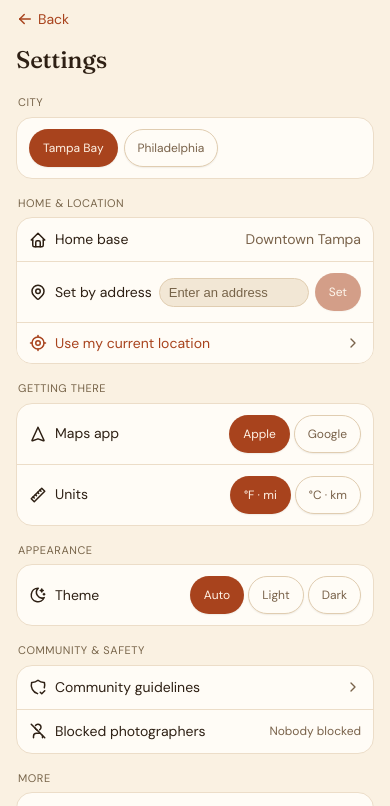
Scenario: Settings — set home by typing an address › geocodes a typed address and updates the home base
The width and height of the screenshot is (390, 806).
Type "1234 Channelside Dr, Tampa" into the field with placeholder "Enter an address" at (234, 292), box [159, 278, 309, 306]
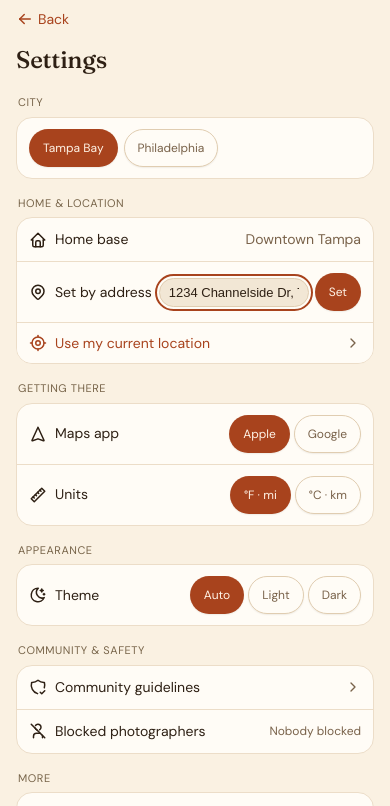
Click the button "Set" at (338, 292), box [315, 273, 361, 311]
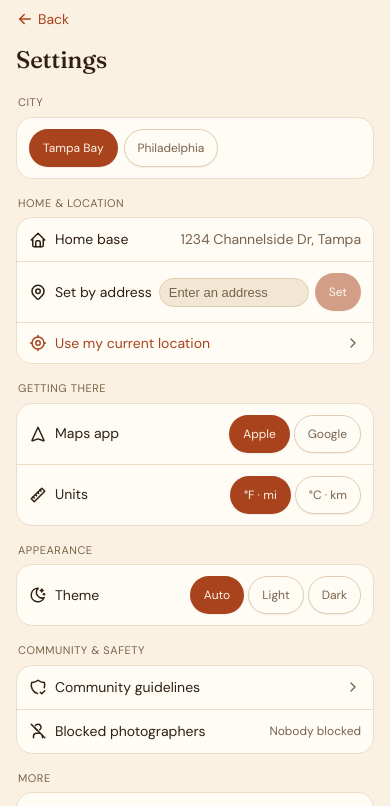
Expected: the text "1234 Channelside Dr, Tampa" is shown, [180, 229, 361, 250]
